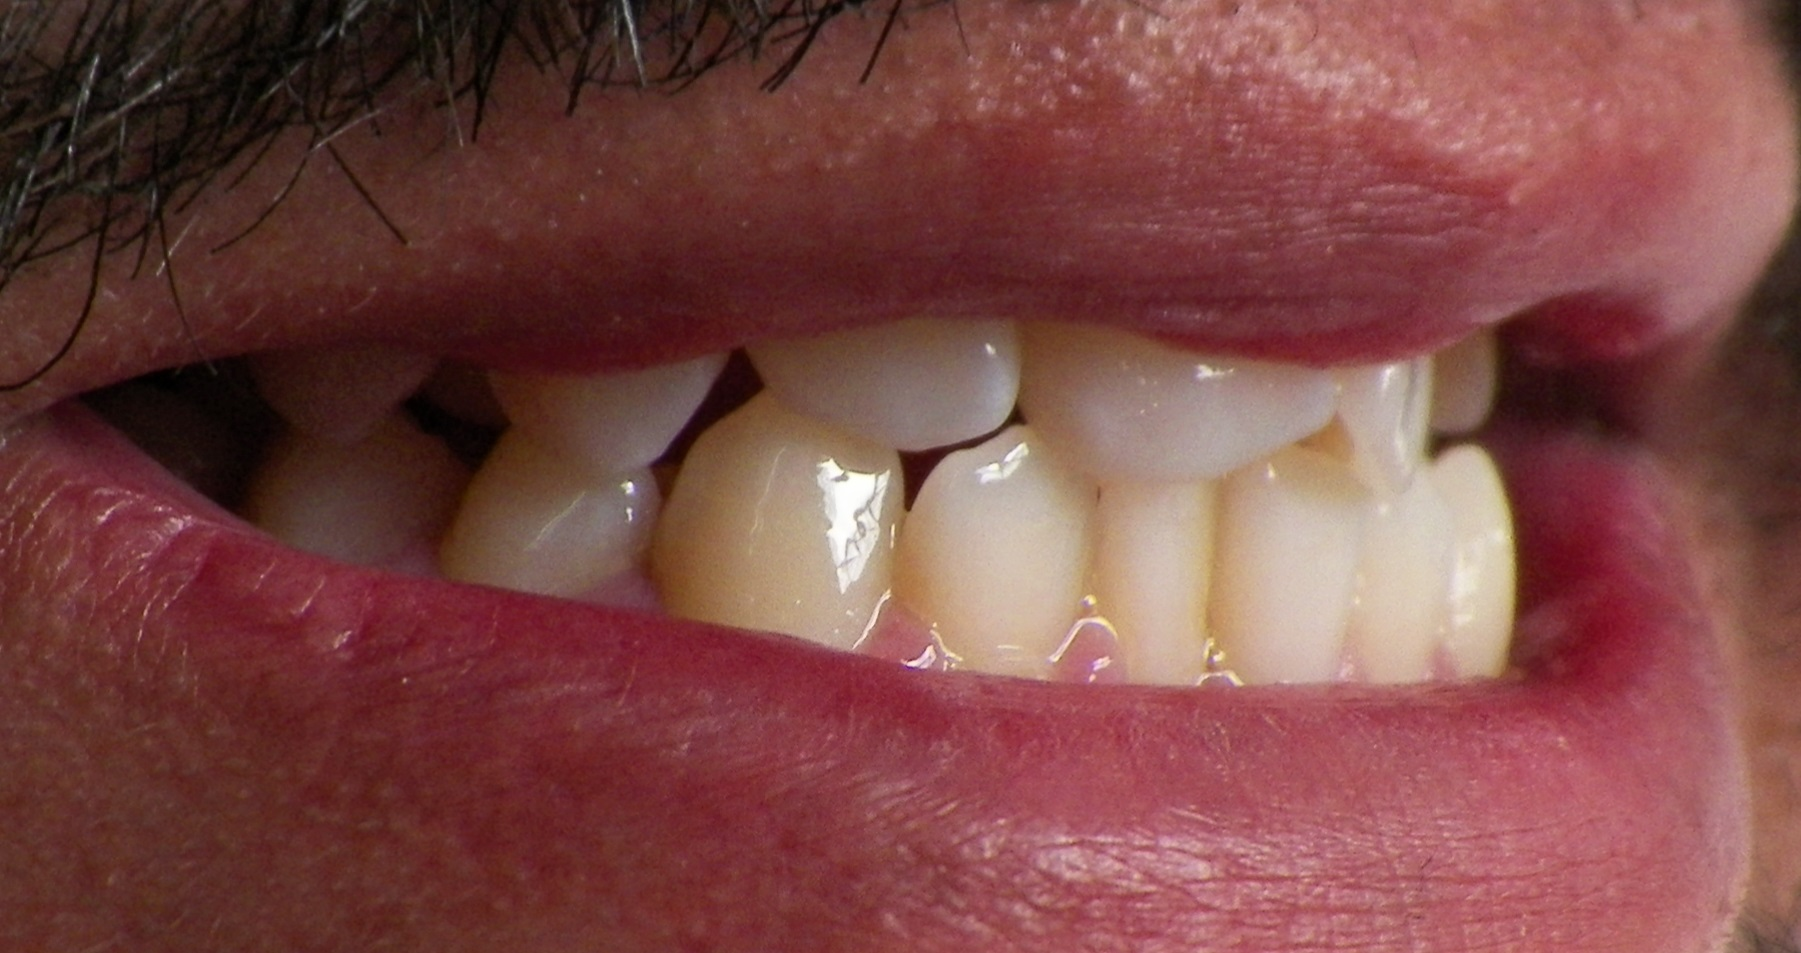boca: (183, 332, 1548, 678)
